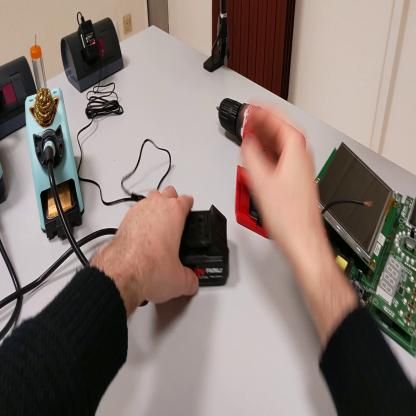electric screwdriver: (216, 97, 308, 241)
hand: (239, 104, 323, 256), (109, 187, 198, 306)
low voltage board: (315, 138, 416, 357)
socket: (61, 11, 125, 102), (1, 46, 39, 144)
welder base: (27, 41, 87, 245)
welder probe tip: (44, 142, 56, 166)
